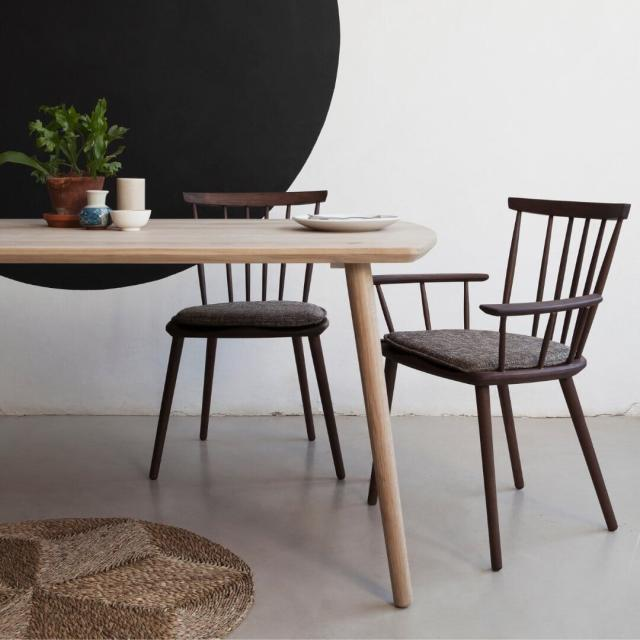chair: (366, 171, 640, 598), (115, 179, 365, 521)
